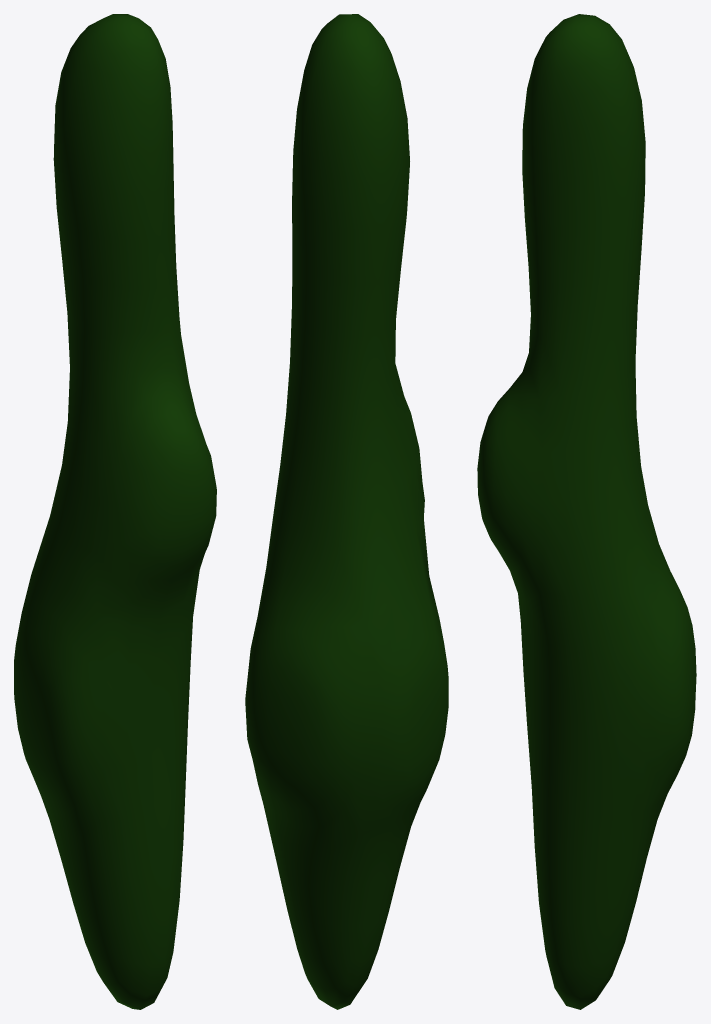
The model's file is Plant2_Low.fbx.
3 views of the same model, side by side, from view 1: azimuth 30°, elevation 25°; view 2: azimuth 150°, elevation 25°; view 3: azimuth 270°, elevation 25° (orthographic).
Visible parts, largest first — view 1: PotPlant.002; view 2: PotPlant.002; view 3: PotPlant.002.
Boxes of the visible parts, bbox=[...] form: PotPlant.002: bbox=[14, 14, 216, 1009]; PotPlant.002: bbox=[245, 14, 448, 1009]; PotPlant.002: bbox=[477, 14, 696, 1009].
Size of the model in its own units: 19.07 by 116 by 23.38.
